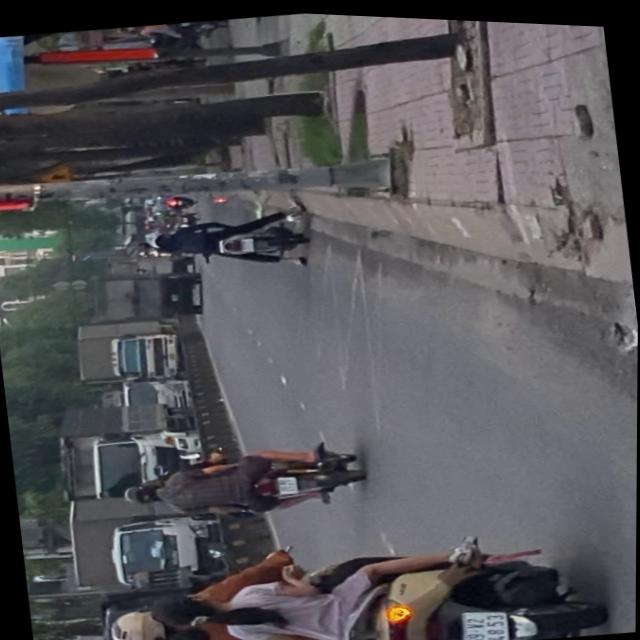helmet: (106, 603, 175, 640), (120, 478, 162, 507)
licenseplate: (97, 505, 611, 640), (114, 428, 366, 532)
motorcyclist: (147, 588, 220, 632)
nohelmet: (459, 606, 508, 640), (276, 474, 298, 493)
